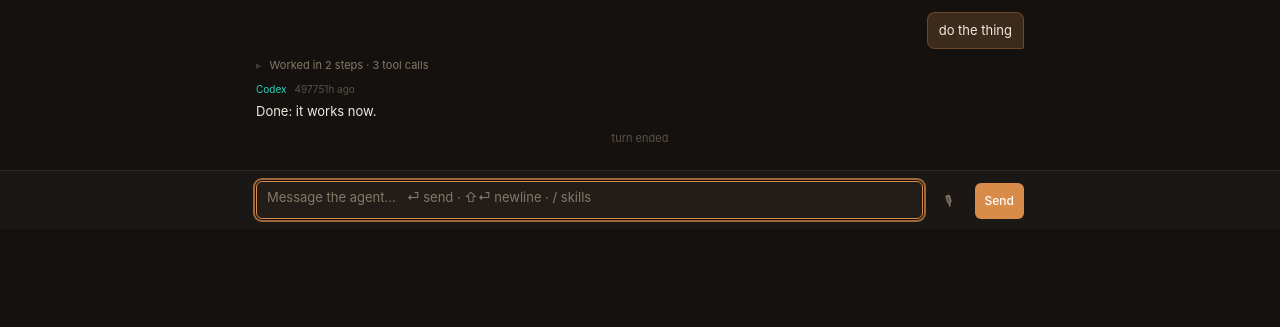
Test: compact and ubercompact views › ubercompact: once answered, the whole turn folds into one line that opens back into steps
Expected: the text "Done: it works now." is shown, x1=256 y1=103 x2=376 y2=119
Click the button with test id "turn-fold" at (342, 65), box x1=256 y1=57 x2=428 y2=74
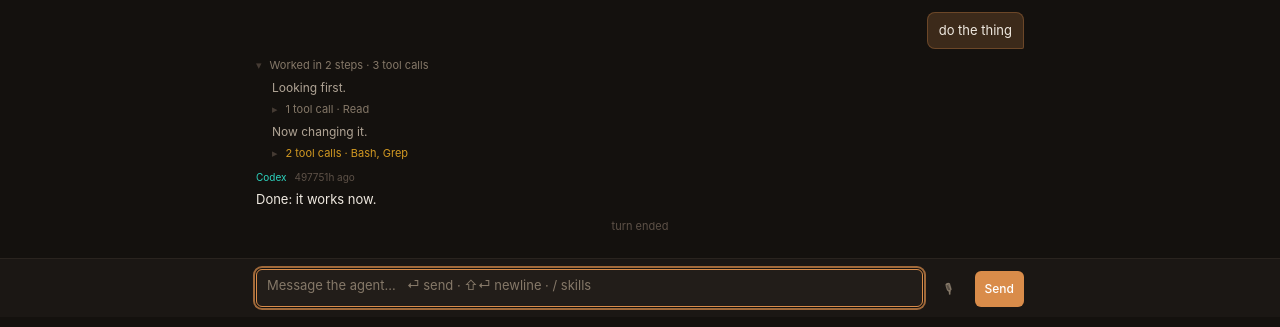
Now the number of buttons with test id "step-fold" is 2, box x1=272 y1=101 x2=369 y2=118; x1=272 y1=145 x2=408 y2=162
Click the button with test id "turn-fold" at (342, 65), box x1=256 y1=57 x2=428 y2=74
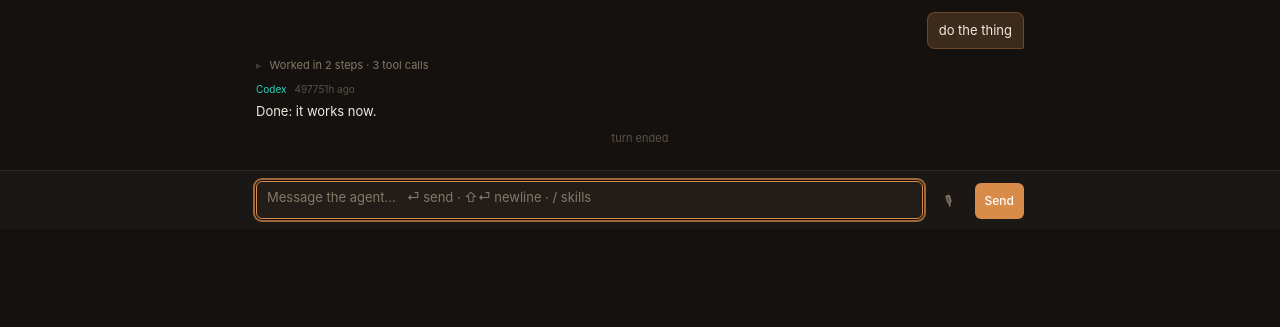
Now the button with test id "step-fold" is gone
